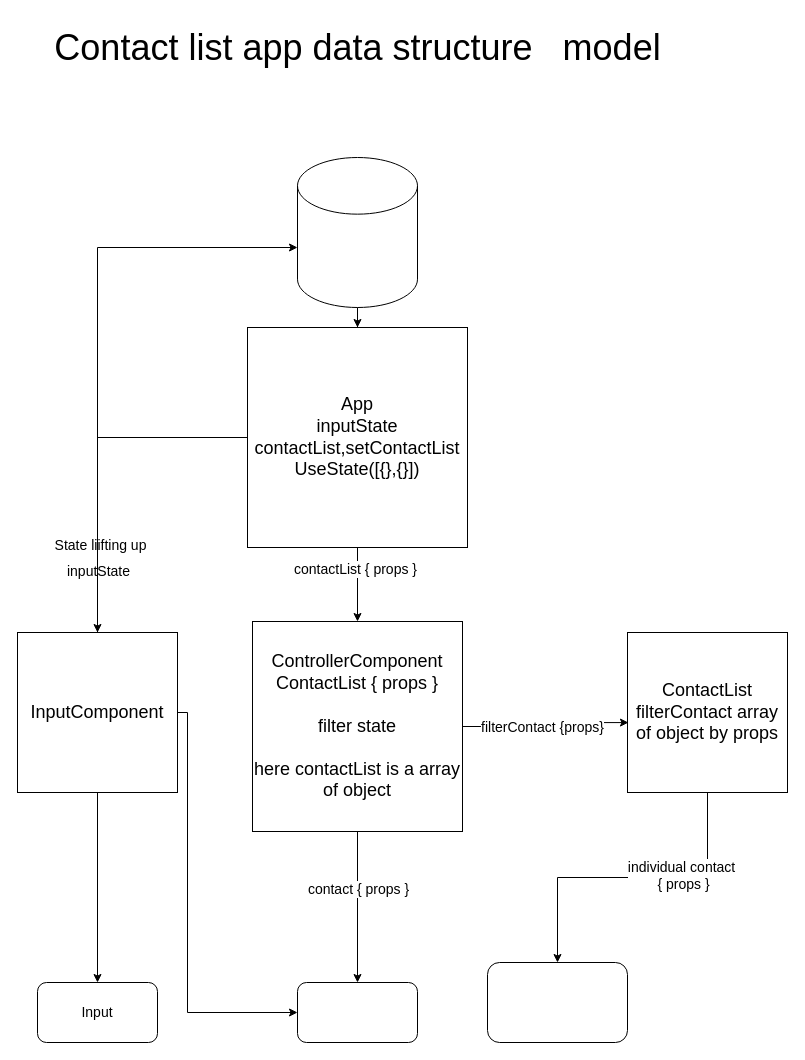
This 805x1060 diagram has some shape labels left out. Each missing label, with the centre of its shape:
Button: (357,1012)
Contact we got data by props image,number,email: (557,1002)
Storage input state inputState: (357,232)
